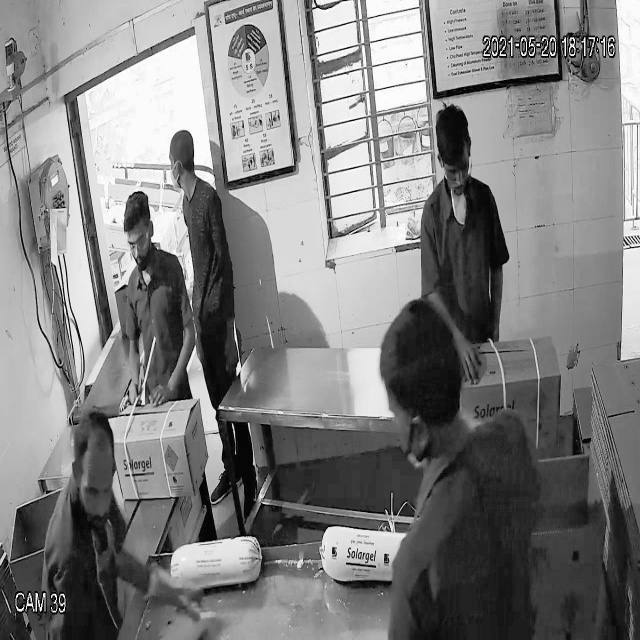Gafas: (124, 228, 155, 260)
